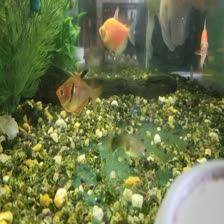Guppy: (101, 124, 153, 159)
Plano: (92, 8, 138, 51), (194, 23, 211, 64)
Transparente: (55, 66, 102, 114)
